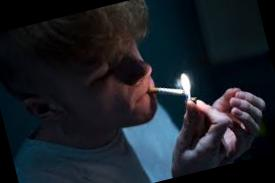Fire: (175, 65, 195, 96)
